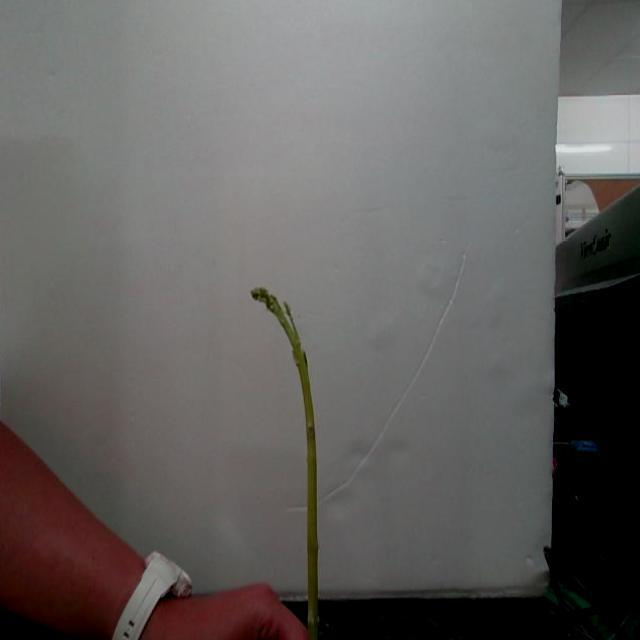aspargus: (252, 289, 323, 640)
